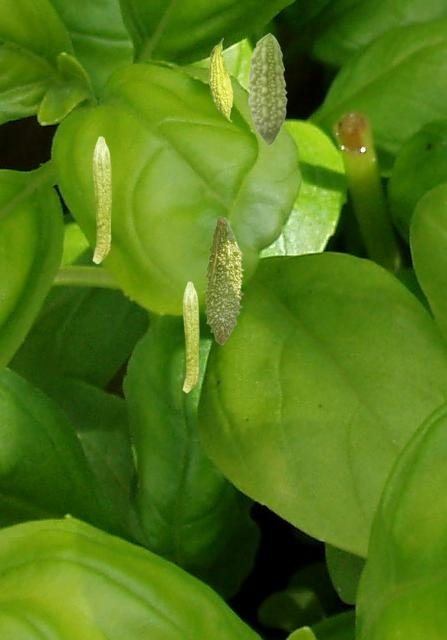ampalaya: (203, 215, 244, 345), (246, 32, 287, 146), (92, 136, 112, 264), (208, 37, 233, 123), (182, 281, 199, 393)
